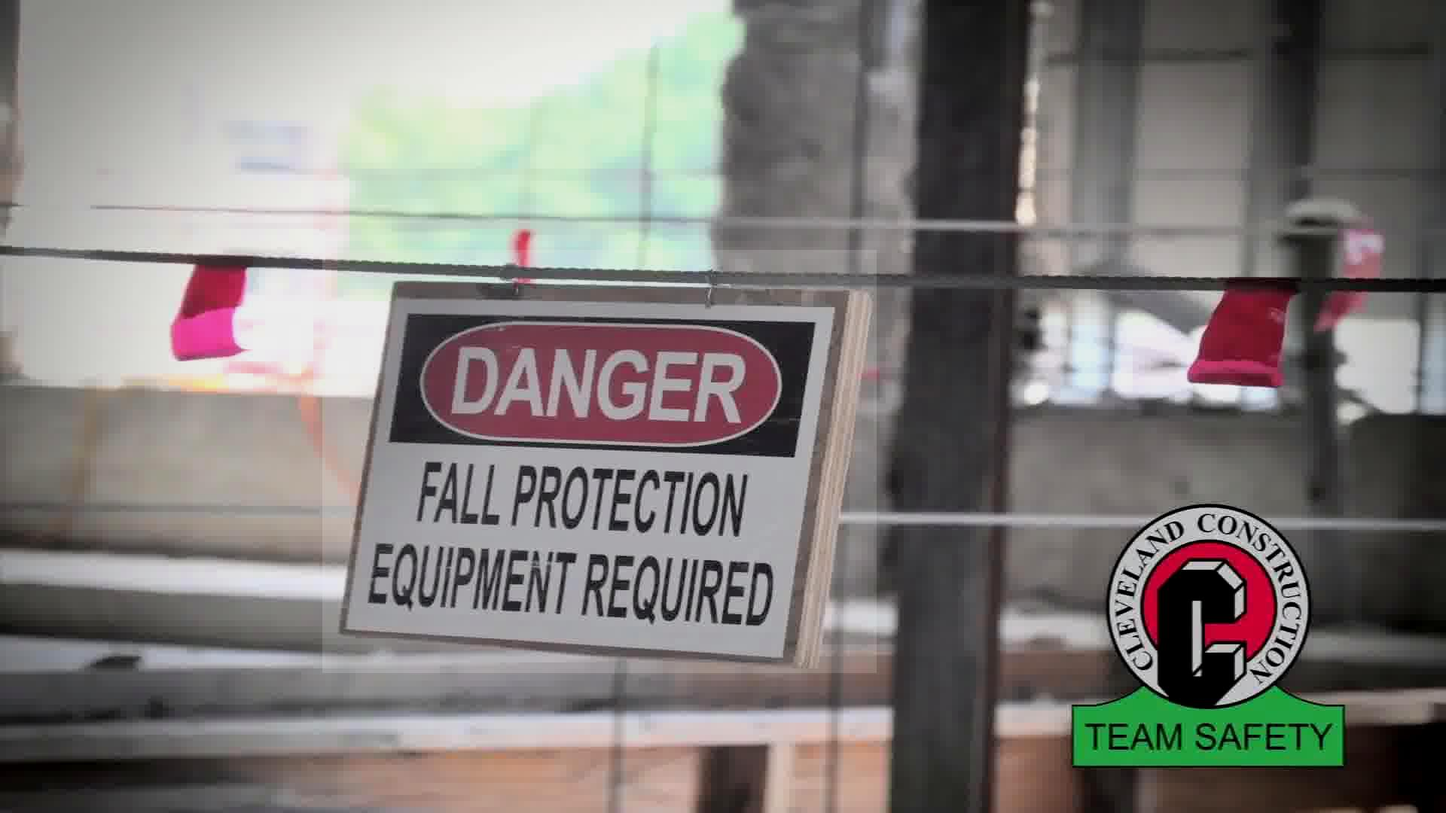safety_signage: (322, 250, 877, 673)
